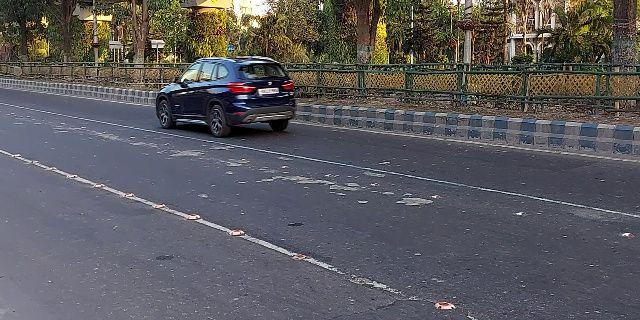Car: (152, 56, 299, 142)
